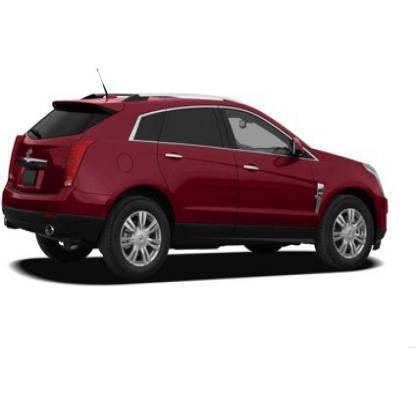Vehicle: (1, 64, 394, 286)
